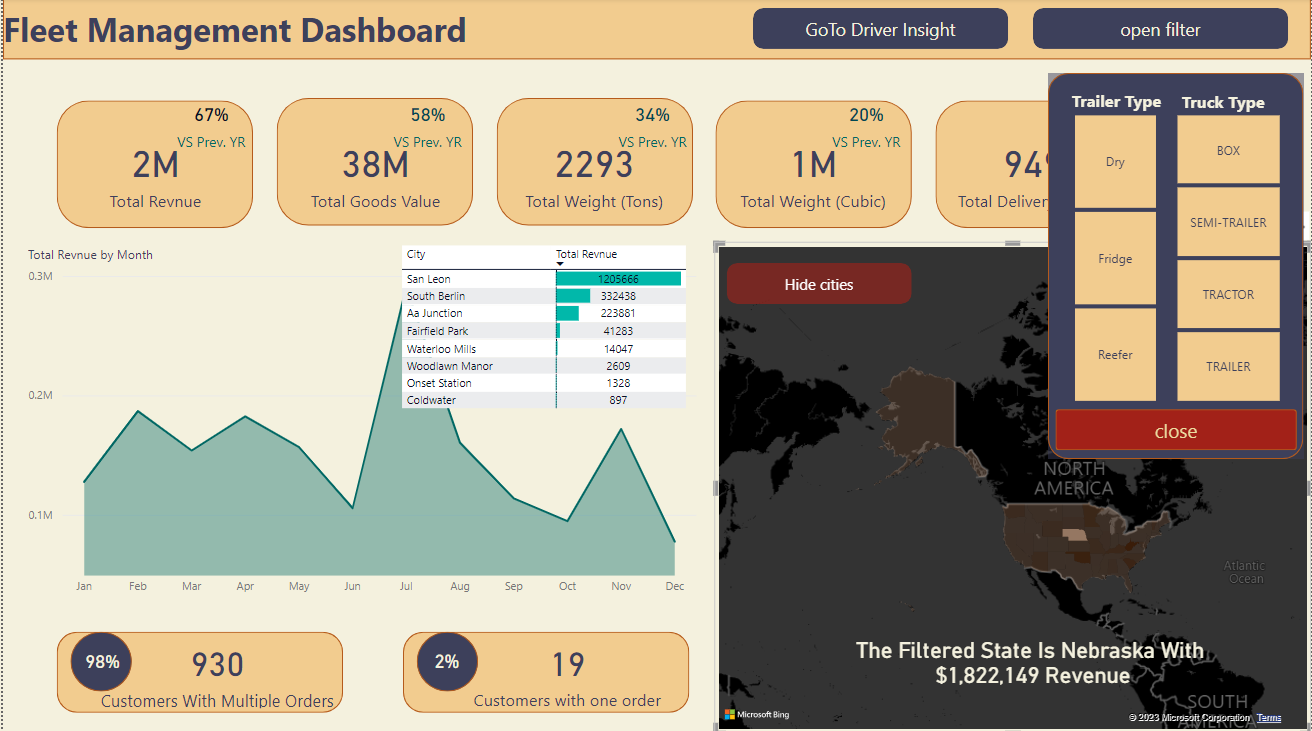

The page's visual inventory and layout, read from the dashboard file:
{"tool":"powerbi","page":{"name":"Revenue","canvas":[1280,720],"ordinal":2},"visuals":[{"type":"filledMap","fields":{"Category":["STATES.Full Name"]},"box":[695.6,238.4,584.3,481.6],"z":0},{"type":"actionButton","title":"Show Btn","box":[708,257.9,180.9,40.3],"z":0,"group":"g1"},{"type":"shape","box":[52.6,619.8,279.9,79.5],"z":1000},{"type":"card","fields":{"Values":["Revenue Insight Measures.Customers With Multiple Orders"]},"box":[86.8,621,245.7,78.2],"z":2000},{"type":"shape","box":[66,619.8,59.9,58.7],"z":3000},{"type":"shape","box":[391.2,619.8,279.9,79.5],"z":4000},{"type":"shape","box":[404.6,619.8,59.9,58.7],"z":5000},{"type":"shape","box":[52.6,100.2,191.9,124.7],"z":6000},{"type":"shape","box":[267.4,97.8,191.9,124.7],"z":7000},{"type":"shape","box":[482.2,97.8,191.9,124.7],"z":8000},{"type":"shape","box":[697.1,100.2,191.9,124.7],"z":9000},{"type":"shape","box":[911.9,100.2,191.9,124.7],"z":10000},{"type":"shape","box":[0,0,1279.9,59.9],"z":11000},{"type":"card","fields":{"Values":["Revenue Insight Measures.Total Revnue"]},"box":[40.3,123.6,217.6,92.9],"z":12000},{"type":"card","fields":{"Values":["Revenue Insight Measures.Total Goods Value"]},"box":[254.9,123.6,217.6,92.9],"z":13000},{"type":"card","fields":{"Values":["Revenue Insight Measures.Total Weight (Tons)"]},"box":[469.4,123.6,217.6,92.9],"z":14000},{"type":"card","fields":{"Values":["Revenue Insight Measures.Total Weight (Cubic)"]},"box":[683.9,123.6,217.6,92.9],"z":15000},{"type":"card","fields":{"Values":["Revenue Insight Measures.Total Delivery Orders"]},"box":[898.5,123.6,217.6,92.9],"z":16000},{"type":"card","fields":{"Values":["Revenue Insight Measures.YoY Growth Revenue"]},"box":[149.1,86.8,108.8,73.3],"z":17000},{"type":"card","fields":{"Values":["Revenue Insight Measures.YoY Growth Goods Value"]},"box":[360.6,86.8,108.8,73.3],"z":18000},{"type":"card","fields":{"Values":["Revenue Insight Measures.YoY Growth Delivery weight (Ton)"]},"box":[580.6,86.8,108.8,73.3],"z":19000},{"type":"card","fields":{"Values":["Revenue Insight Measures.YoY Growth Delivery weight (cubic)"]},"box":[789.7,87.3,108.8,73.3],"z":20000},{"type":"card","fields":{"Values":["Revenue Insight Measures.YoY Growth Delivery orders"]},"box":[1007.3,89.2,108.8,73.3],"z":21000},{"type":"card","fields":{"Values":["Revenue Insight Measures.Customers with one order"]},"box":[442.5,619.8,218.8,79.5],"z":22000},{"type":"card","fields":{"Values":["Revenue Insight Measures.% Of Repeated Customers"]},"box":[42.8,612.4,108.8,73.3],"z":23000},{"type":"card","fields":{"Values":["Revenue Insight Measures.% Of One-time Customers"]},"box":[407.1,630.8,53.8,36.7],"z":24000},{"type":"areaChart","fields":{"Category":["DateTable.Months.year","DateTable.Months.Month","DateTable.Months.Quarter"],"Y":["Revenue Insight Measures.Total Revnue"]},"box":[19.6,242,663.8,349.6],"z":25000},{"type":"shape","box":[1007.3,9.8,249.4,40.3],"z":26000},{"type":"shape","box":[733.4,9.8,249.4,40.3],"z":28000},{"type":"group","id":"g1","title":"Group 1","box":[707.8,257.9,180.9,40.3],"z":30000},{"type":"card","fields":{"Values":["Revenue Insight Measures.Current Map Filter"]},"box":[779.9,590.4,454.7,118.6],"z":31000}]}

Visuals, with their boxes in screenshot pixels (x1, y1, x2, y2), scaled from the page's 1280x720 canvas onto the 1312x731 screenshot:
filledMap - STATES.Full Name: pyautogui.locateOnScreen(713, 242, 1311, 730)
"Show Btn" actionButton: pyautogui.locateOnScreen(726, 262, 911, 303)
shape: pyautogui.locateOnScreen(54, 629, 341, 710)
card - Revenue Insight Measures.Customers With Multiple Orders: pyautogui.locateOnScreen(89, 630, 341, 710)
shape: pyautogui.locateOnScreen(68, 629, 129, 689)
shape: pyautogui.locateOnScreen(401, 629, 688, 710)
shape: pyautogui.locateOnScreen(415, 629, 476, 689)
shape: pyautogui.locateOnScreen(54, 102, 251, 228)
shape: pyautogui.locateOnScreen(274, 99, 471, 226)
shape: pyautogui.locateOnScreen(494, 99, 691, 226)
shape: pyautogui.locateOnScreen(715, 102, 911, 228)
shape: pyautogui.locateOnScreen(935, 102, 1131, 228)
shape: pyautogui.locateOnScreen(0, 0, 1311, 61)
card - Revenue Insight Measures.Total Revnue: pyautogui.locateOnScreen(41, 125, 264, 220)
card - Revenue Insight Measures.Total Goods Value: pyautogui.locateOnScreen(261, 125, 484, 220)
card - Revenue Insight Measures.Total Weight (Tons): pyautogui.locateOnScreen(481, 125, 704, 220)
card - Revenue Insight Measures.Total Weight (Cubic): pyautogui.locateOnScreen(701, 125, 924, 220)
card - Revenue Insight Measures.Total Delivery Orders: pyautogui.locateOnScreen(921, 125, 1144, 220)
card - Revenue Insight Measures.YoY Growth Revenue: pyautogui.locateOnScreen(153, 88, 264, 163)
card - Revenue Insight Measures.YoY Growth Goods Value: pyautogui.locateOnScreen(370, 88, 481, 163)
card - Revenue Insight Measures.YoY Growth Delivery weight (Ton): pyautogui.locateOnScreen(595, 88, 707, 163)
card - Revenue Insight Measures.YoY Growth Delivery weight (cubic): pyautogui.locateOnScreen(809, 89, 921, 163)
card - Revenue Insight Measures.YoY Growth Delivery orders: pyautogui.locateOnScreen(1032, 91, 1144, 165)
card - Revenue Insight Measures.Customers with one order: pyautogui.locateOnScreen(454, 629, 678, 710)
card - Revenue Insight Measures.% Of Repeated Customers: pyautogui.locateOnScreen(44, 622, 155, 696)
card - Revenue Insight Measures.% Of One-time Customers: pyautogui.locateOnScreen(417, 640, 472, 678)
areaChart - DateTable.Months.year x DateTable.Months.Month: pyautogui.locateOnScreen(20, 246, 700, 601)
shape: pyautogui.locateOnScreen(1032, 10, 1288, 51)
shape: pyautogui.locateOnScreen(752, 10, 1007, 51)
"Group 1" group: pyautogui.locateOnScreen(725, 262, 911, 303)
card - Revenue Insight Measures.Current Map Filter: pyautogui.locateOnScreen(799, 599, 1265, 720)
